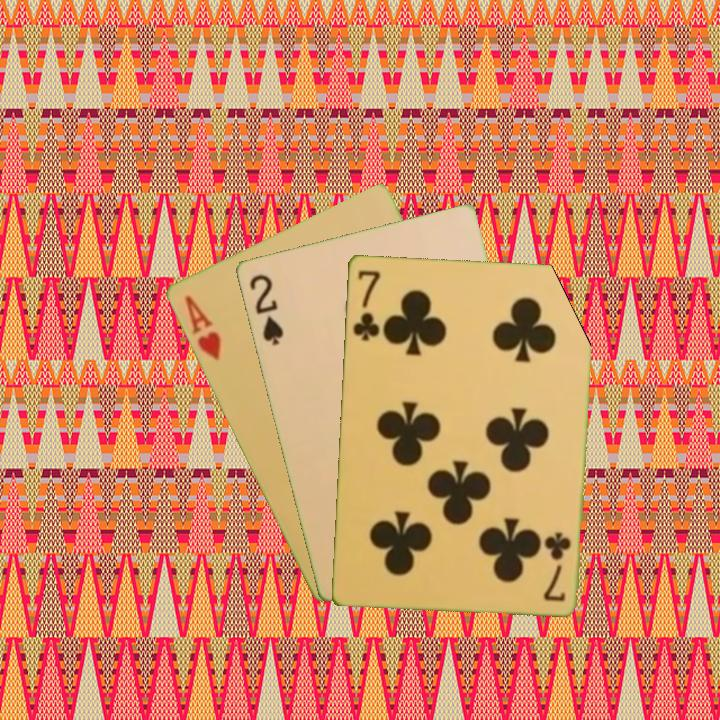2s: (245, 270, 286, 349)
7c: (349, 266, 383, 343), (540, 528, 573, 604)
Ah: (180, 292, 224, 364)
